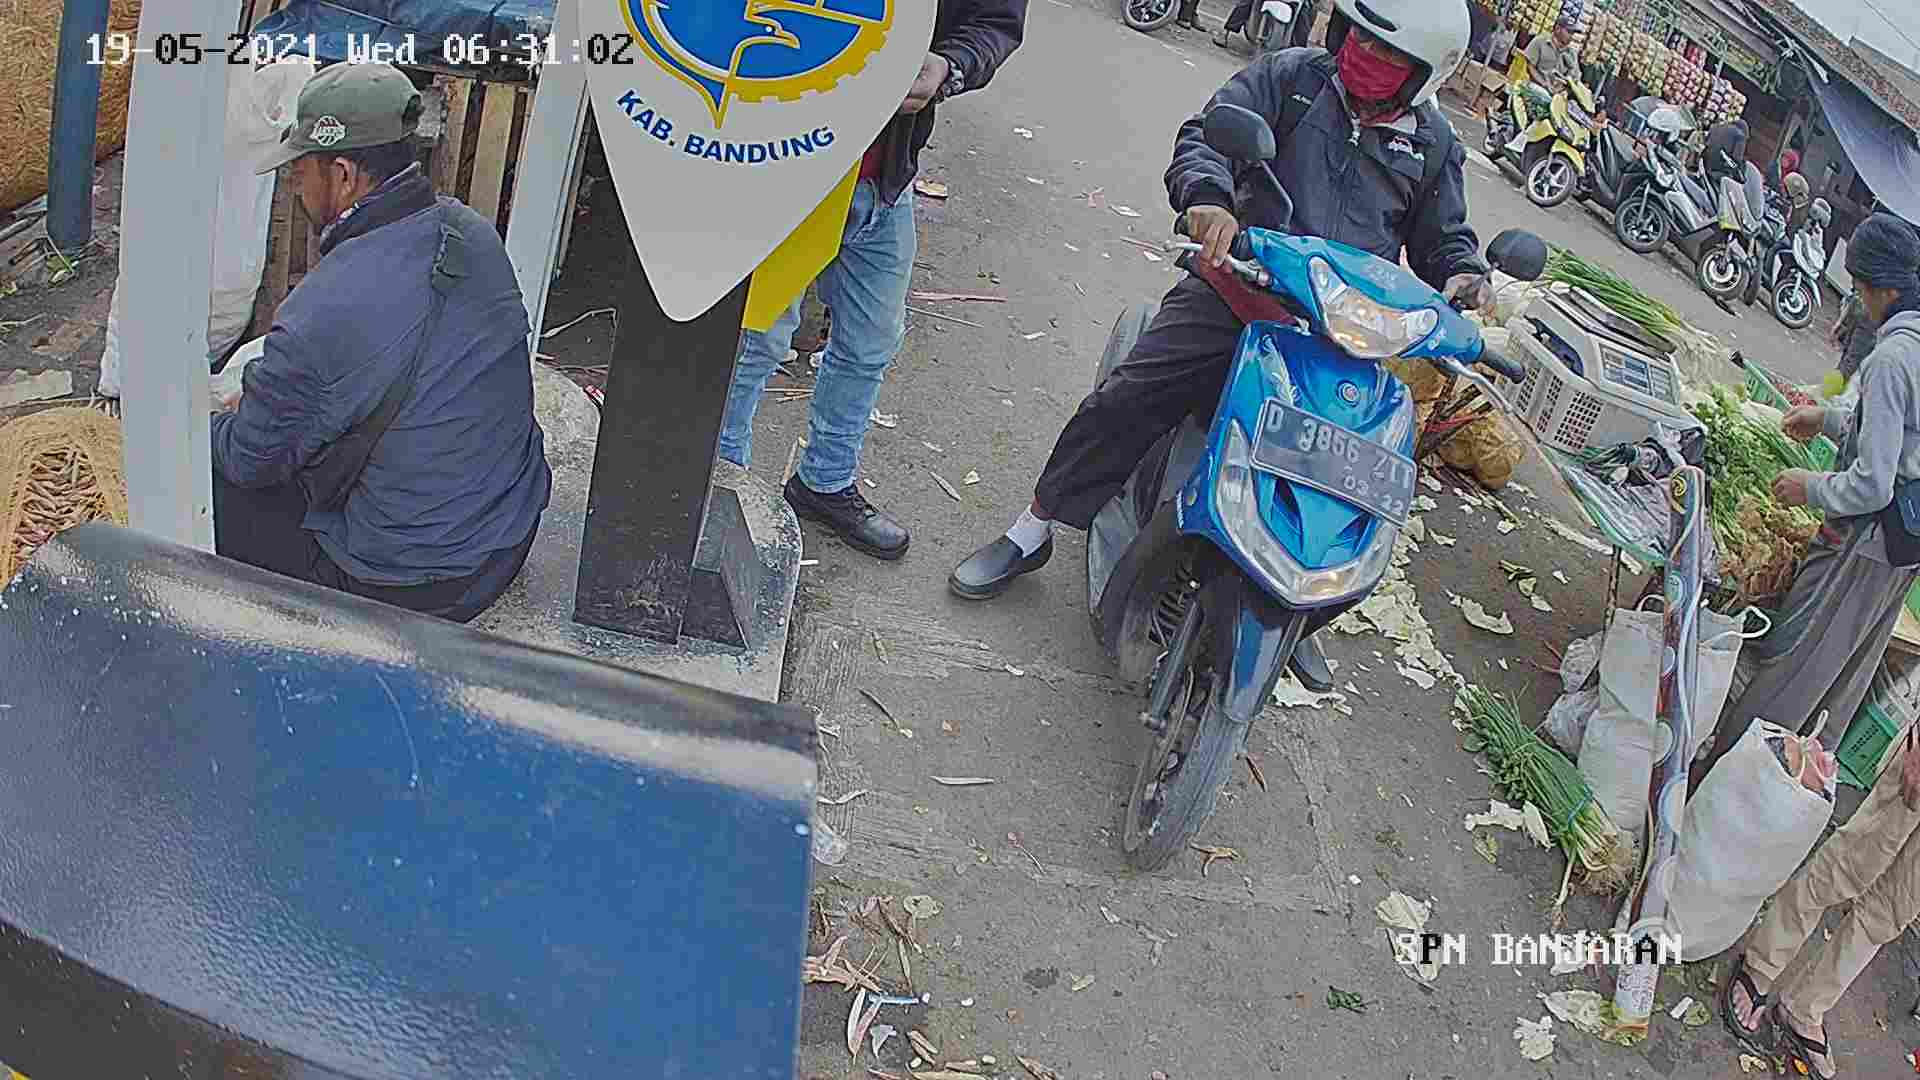motor: (1095, 210, 1472, 862)
